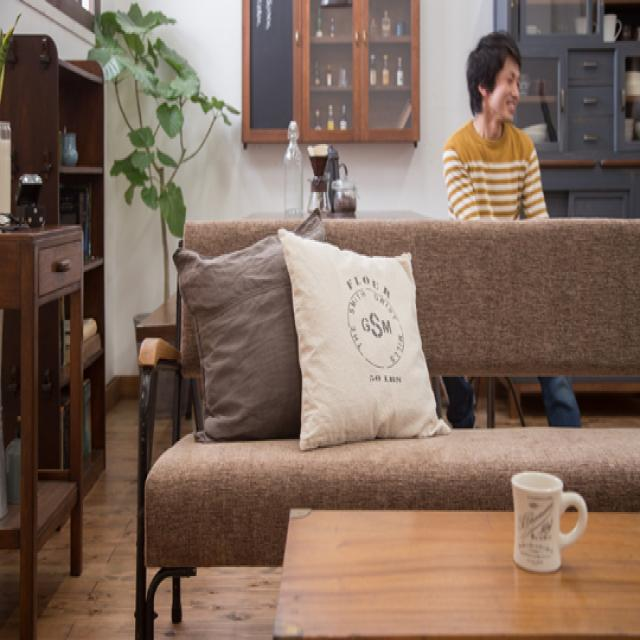vintage desk: (273, 504, 640, 640)
